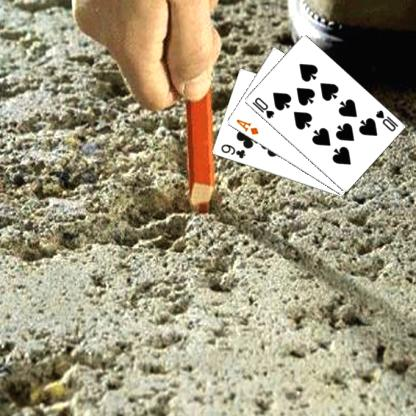10S: (372, 107, 400, 133), (249, 94, 275, 119)
9C: (218, 141, 247, 160)
AD: (233, 117, 260, 136)
